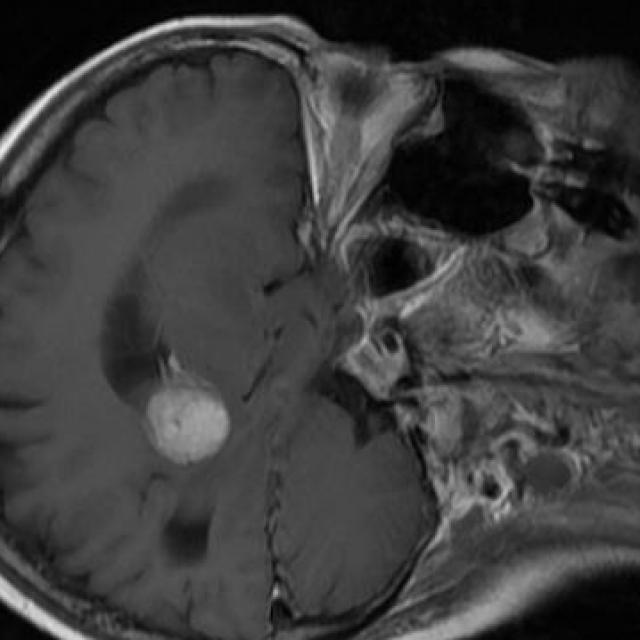meningioma: (144, 385, 230, 465)
